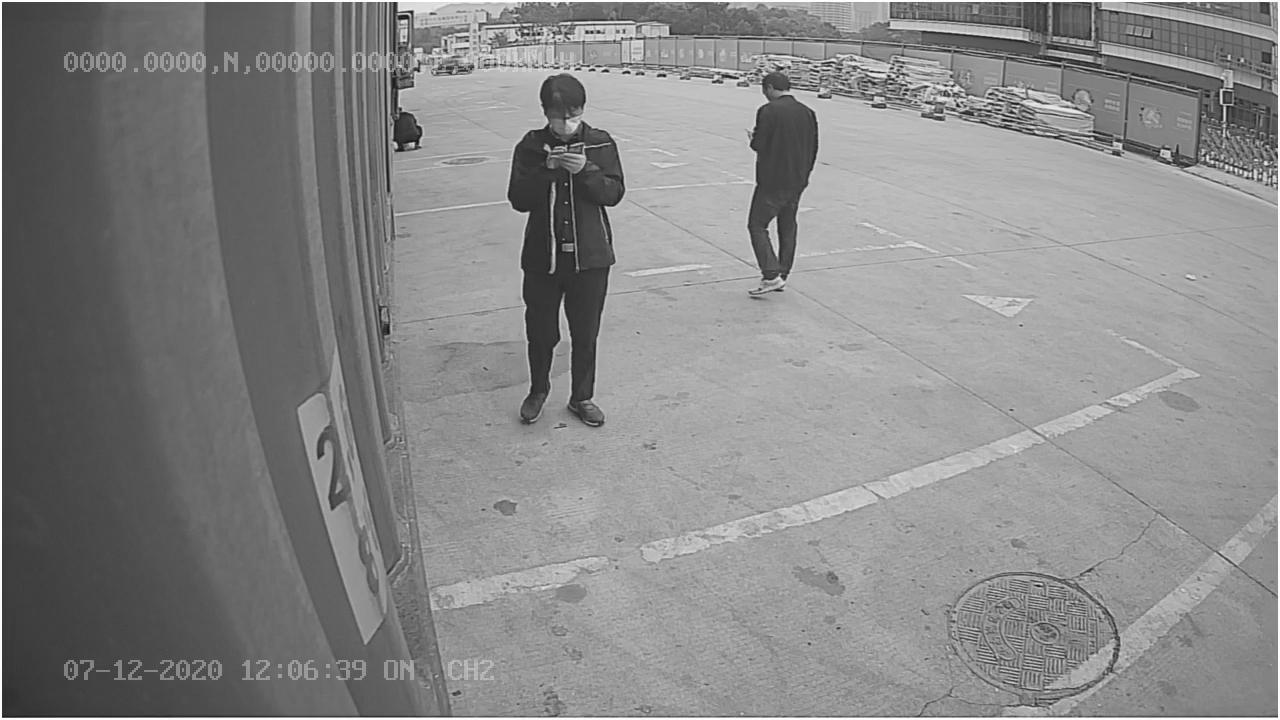person: (508, 67, 625, 430), (741, 66, 822, 301)
